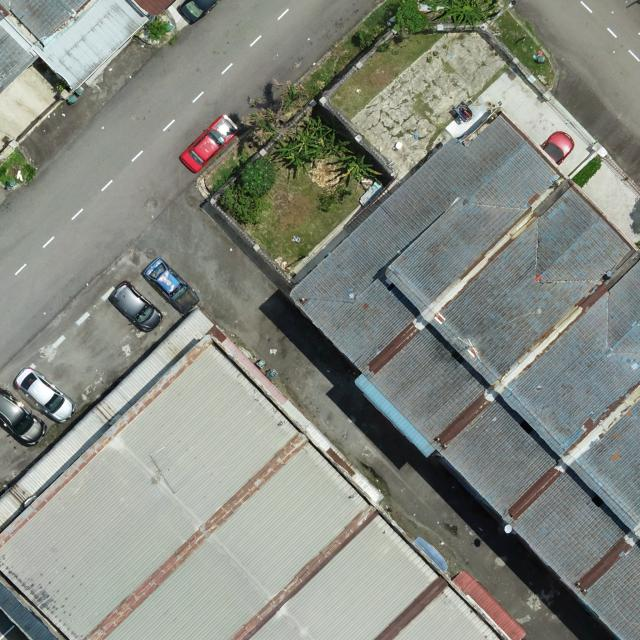banana_tree2: (430, 0, 499, 30), (268, 140, 320, 178), (335, 153, 383, 190), (284, 120, 321, 153), (319, 109, 351, 139), (322, 131, 354, 158), (301, 111, 332, 138)
tree: (240, 78, 306, 146), (217, 182, 264, 227), (240, 158, 276, 198), (393, 0, 430, 34)
